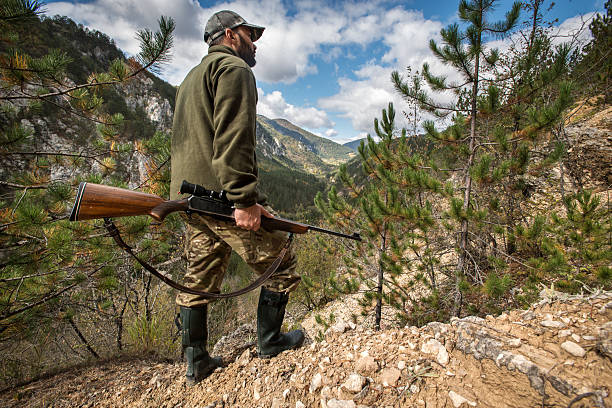rifle: (71, 176, 375, 277)
